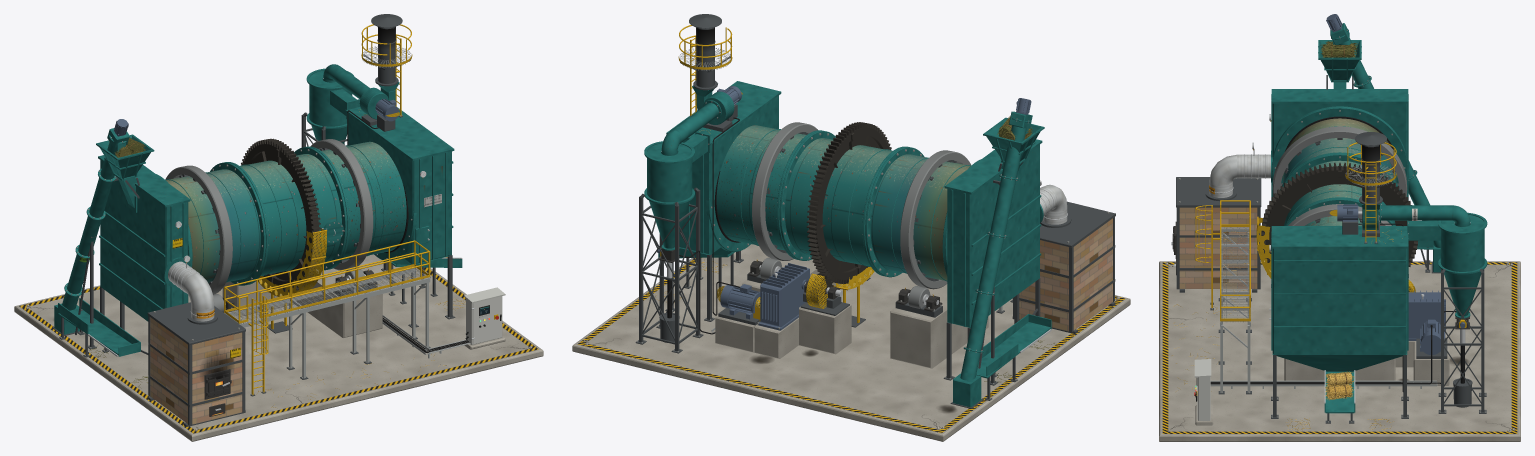
Rendered from Dryer_v2.glb.
3 views of the same model, side by side, from view 1: azimuth 30°, elevation 25°; view 2: azimuth 150°, elevation 25°; view 3: azimuth 270°, elevation 25° (orthographic). The views are drawn at different scales.
Visible parts, largest first — view 1: DY_Foundation, DY_Drum, DY_FeedEnd, DY_Furnace, DY_DischargeEnd, DY_Walkway, DY_Exhaust, DY_Controls, DY_DriveTrain, DY_Supports, DY_StrawBundles, DY_Details; view 2: DY_Foundation, DY_Drum, DY_FeedEnd, DY_Exhaust, DY_Furnace, DY_DischargeEnd, DY_DriveTrain, DY_Supports, DY_Controls; view 3: DY_Foundation, DY_DischargeEnd, DY_Exhaust, DY_Drum, DY_Furnace, DY_FeedEnd, DY_Walkway, DY_DriveTrain, DY_Controls, DY_StrawBundles.
Part boxes in pixels (box(x1,y1,x2,y2)): DY_Foundation: box(14, 254, 543, 441); DY_Drum: box(165, 138, 406, 294); DY_FeedEnd: box(52, 119, 192, 357); DY_Furnace: box(147, 261, 245, 426); DY_DischargeEnd: box(345, 107, 462, 327); DY_Walkway: box(224, 240, 430, 396); DY_Exhaust: box(301, 14, 412, 147); DY_Controls: box(347, 110, 505, 358); DY_DriveTrain: box(258, 228, 327, 333); DY_Supports: box(213, 267, 377, 312); DY_StrawBundles: box(89, 109, 465, 407); DY_Details: box(79, 166, 442, 358); DY_Foundation: box(572, 244, 1130, 441); DY_Drum: box(716, 122, 971, 289); DY_FeedEnd: box(942, 98, 1051, 408); DY_Exhaust: box(635, 14, 742, 353); DY_Furnace: box(1012, 184, 1115, 333); DY_DischargeEnd: box(658, 81, 781, 321); DY_DriveTrain: box(717, 263, 874, 330); DY_Supports: box(747, 257, 942, 317); DY_Controls: box(679, 117, 739, 334); DY_Foundation: box(1159, 261, 1520, 441); DY_DischargeEnd: box(1269, 226, 1408, 423); DY_Exhaust: box(1329, 132, 1487, 413); DY_Drum: box(1261, 118, 1417, 266); DY_Furnace: box(1171, 154, 1270, 292); DY_FeedEnd: box(1271, 14, 1440, 287); DY_Walkway: box(1195, 200, 1251, 394); DY_DriveTrain: box(1256, 216, 1447, 358); DY_Controls: box(1194, 223, 1456, 420); DY_StrawBundles: box(1172, 41, 1404, 430).
Bounding box in the file's own units: 16 × 12 × 14.
45 materials, 22 textured.
